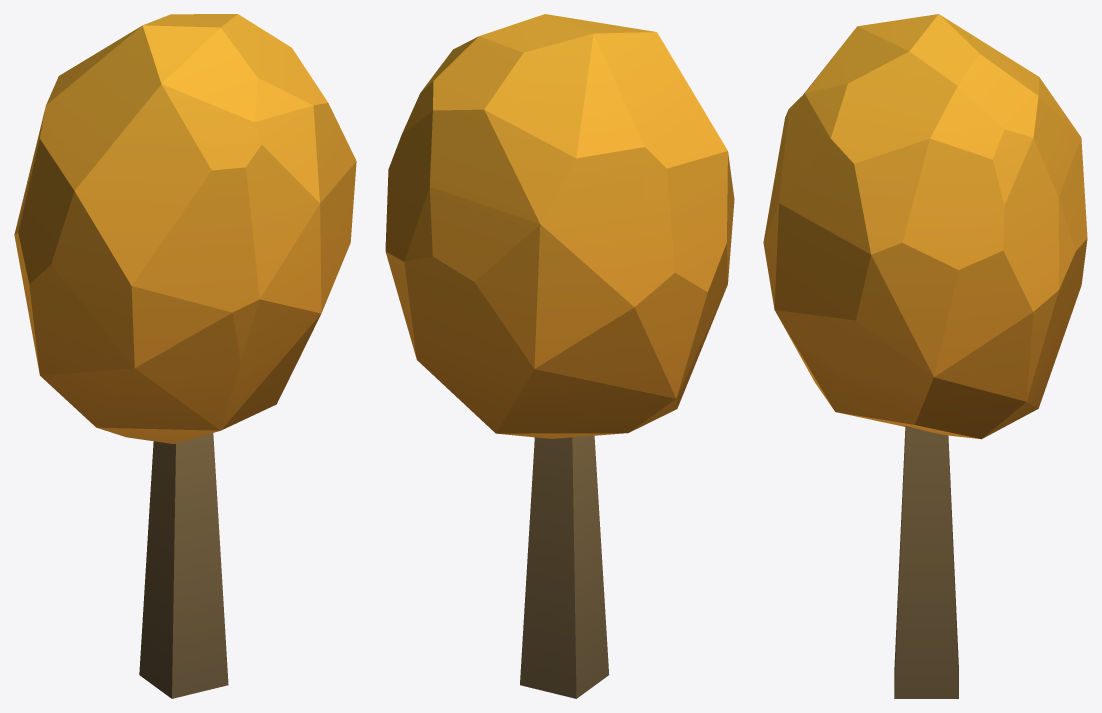
File: Tree_2.fbx
3 renders of one model, left to right at view 1: azimuth 30°, elevation 25°; view 2: azimuth 150°, elevation 25°; view 3: azimuth 270°, elevation 25°, orthographic.
Visible parts, largest first — view 1: Tree_2; view 2: Tree_2; view 3: Tree_2.
Part boxes in pixels (bbox=[...]): Tree_2: bbox=[14, 14, 356, 698]; Tree_2: bbox=[385, 14, 734, 698]; Tree_2: bbox=[763, 14, 1087, 698].
Bounding box in the file's own units: 340 × 718 × 322.
